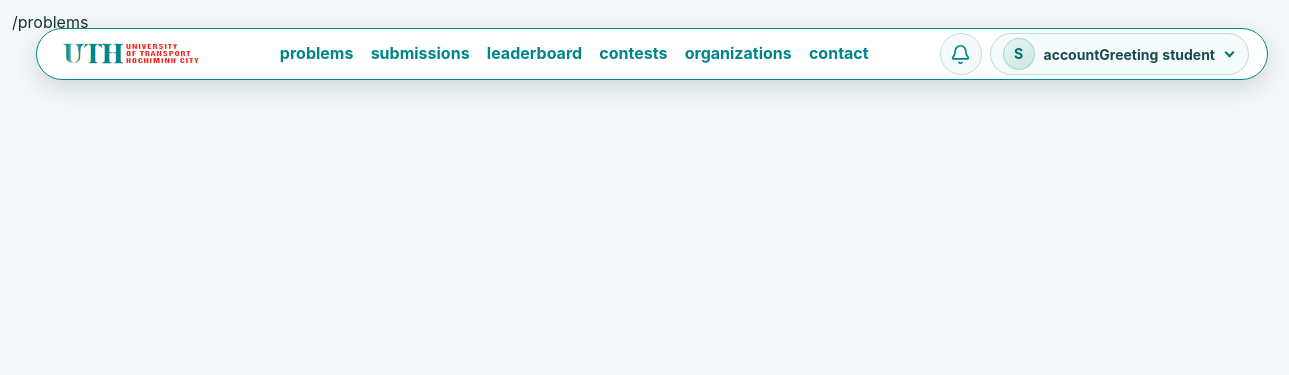
Test: SiteHeader appearance controls › navigates through profile links and logs out only from the logout action
Step 1. Click the button with aria-label "accountMenu" → (1119, 54), box [990,33,1249,75]
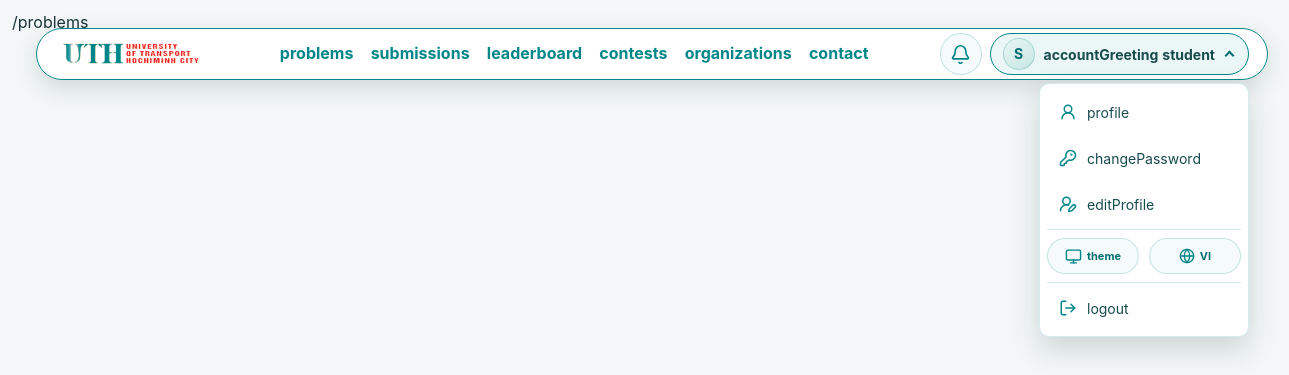
Step 2. Click the link to "/profile" → (1094, 112), box [1059,103,1129,121]
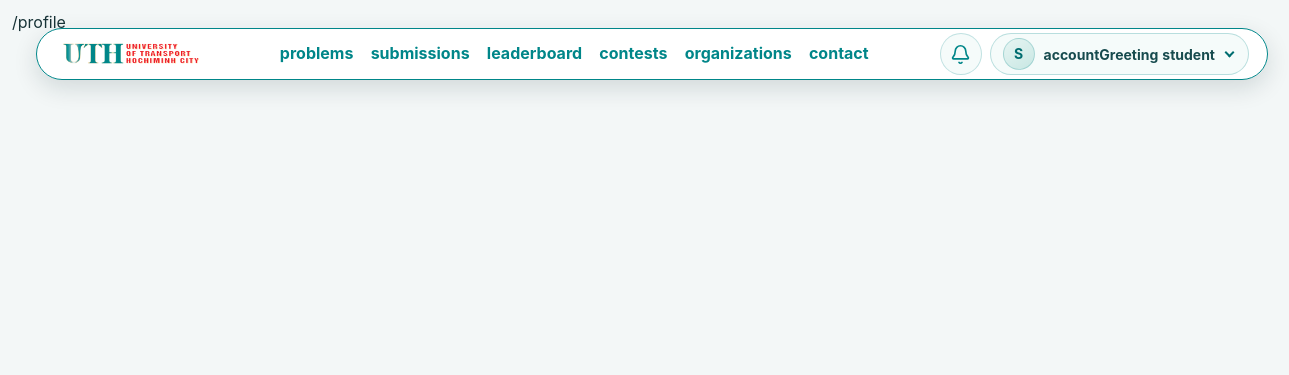
expect the text with test id "location" reads "/profile": met, box [12,12,66,32]
expect the element with id "account-menu" is gone: met
Step 3. Click the button with aria-label "accountMenu" → (1119, 54), box [990,33,1249,75]
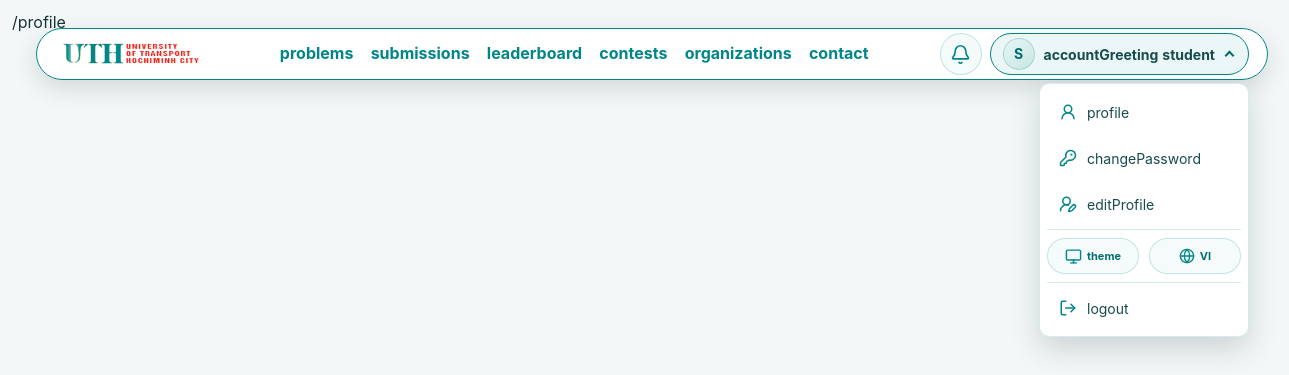
Step 4. Click the button "logout" → (1144, 308), box [1047,287,1241,329]
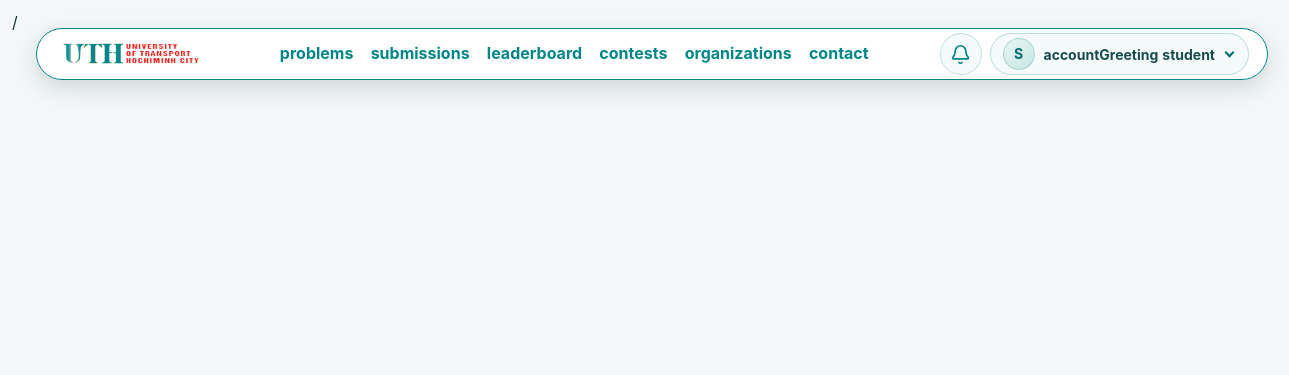
expect the text with test id "location" reads "/": met, box [12,12,18,32]
expect the element with id "account-menu" is gone: met
